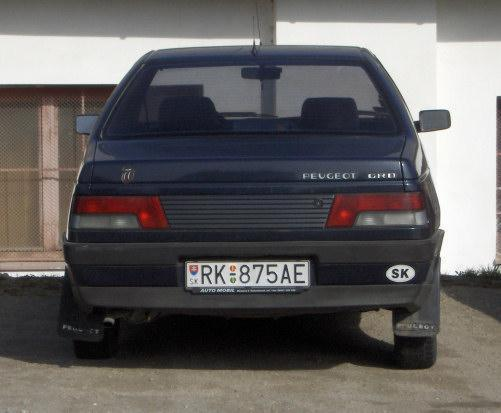placa de veiculo: (175, 251, 325, 304)
